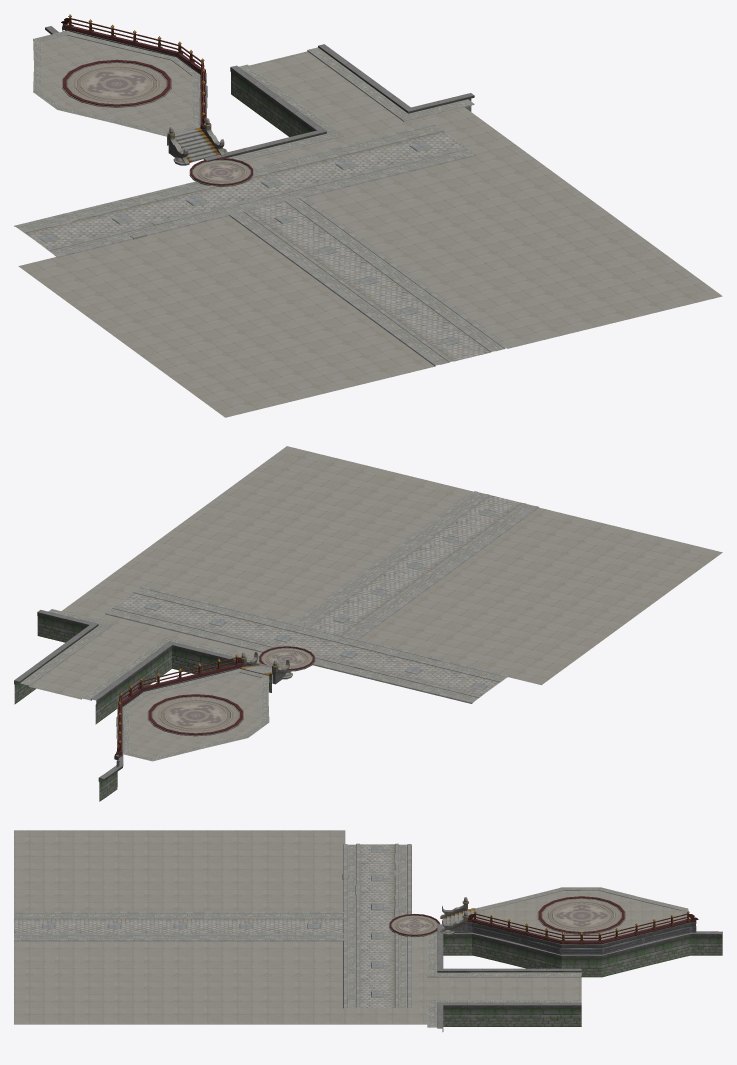
3 views of the same model, one above another, from view 1: azimuth 30°, elevation 25°; view 2: azimuth 150°, elevation 25°; view 3: azimuth 270°, elevation 25° (orthographic). The views are drawn at different scales.
Parts seen in each view (by area): view 1: MB0007_04_9X, MB0007_04_7X, MB0007_04_5X, MB0007_04_8X, MB0007_04_1X, MB0007_04_2X, MB0007_04_3X, MB0007_04_4X, MB0007_04_6X; view 2: MB0007_04_9X, MB0007_04_7X, MB0007_04_5X, MB0007_04_8X, MB0007_04_1X, MB0007_04_2X, MB0007_04_3X, MB0007_04_6X, MB0007_04_4X; view 3: MB0007_04_9X, MB0007_04_7X, MB0007_04_5X, MB0007_04_3X, MB0007_04_8X, MB0007_04_1X, MB0007_04_2X, MB0007_04_6X, MB0007_04_4X.
Boxes of the visible parts, x1,y1,x2,y2 form: MB0007_04_9X: (18,145,722,417); MB0007_04_7X: (14,123,476,257); MB0007_04_5X: (203,44,515,167); MB0007_04_8X: (282,235,508,366); MB0007_04_1X: (33,30,200,136); MB0007_04_2X: (62,59,171,107); MB0007_04_3X: (45,14,207,131); MB0007_04_4X: (167,118,227,165); MB0007_04_6X: (189,158,253,186); MB0007_04_9X: (106,446,722,685); MB0007_04_7X: (105,586,509,703); MB0007_04_5X: (14,579,271,724); MB0007_04_8X: (340,491,538,605); MB0007_04_1X: (122,668,269,761); MB0007_04_2X: (147,694,243,736); MB0007_04_3X: (98,654,243,801); MB0007_04_6X: (259,646,315,671); MB0007_04_4X: (239,652,292,684); MB0007_04_9X: (14,830,345,1024); MB0007_04_7X: (259,843,411,1008); MB0007_04_5X: (345,924,581,1031); MB0007_04_3X: (443,910,722,977); MB0007_04_8X: (14,911,258,941); MB0007_04_1X: (475,887,688,940); MB0007_04_2X: (537,896,625,934); MB0007_04_6X: (389,914,440,937); MB0007_04_4X: (440,897,475,935).
Size of the model in its own units: 104 by 10.79 by 156.
